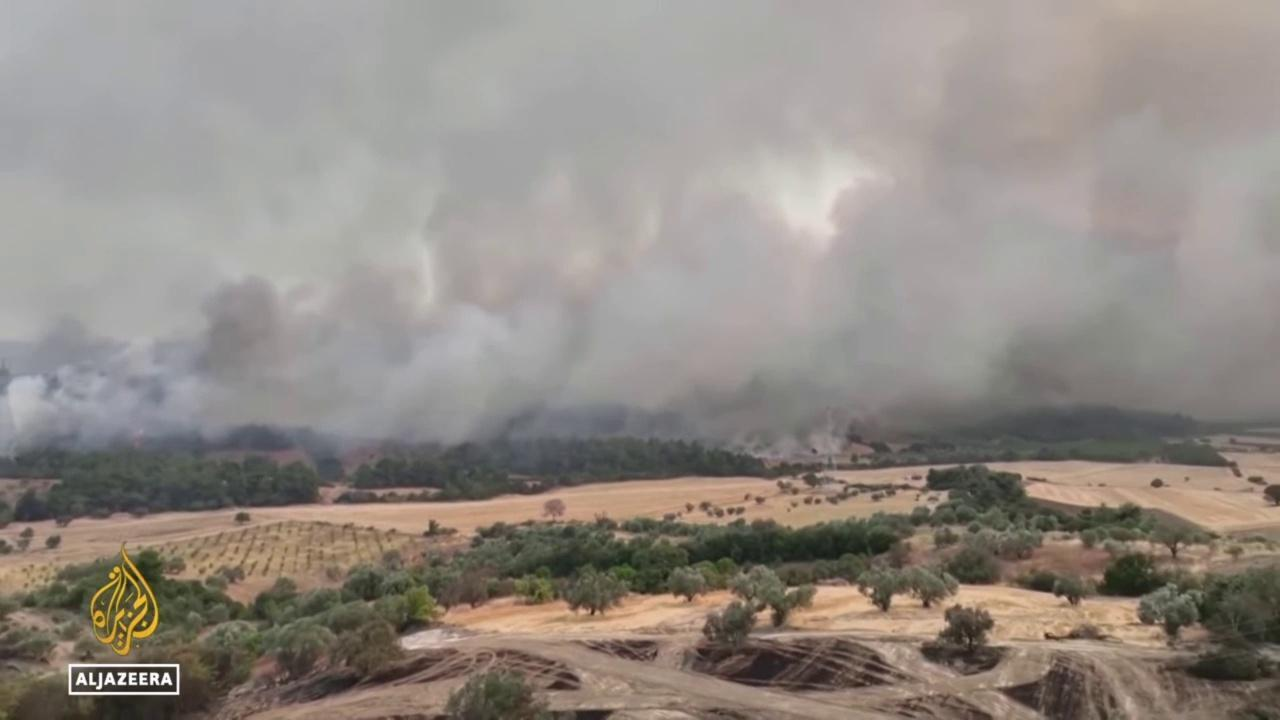smoke: (0, 0, 1280, 462)
